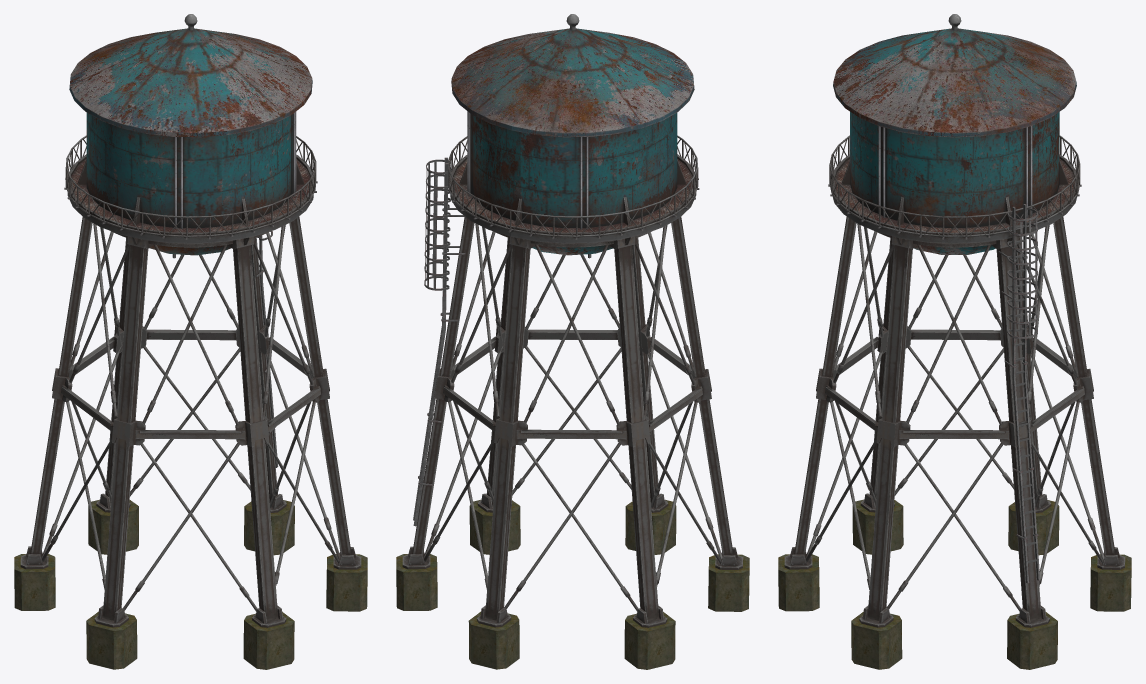
3 renders of one model, left to right at view 1: azimuth 30°, elevation 25°; view 2: azimuth 150°, elevation 25°; view 3: azimuth 270°, elevation 25°, orthographic.
Visible parts, largest first — view 1: water_tower_01_water_towet_set1_0, water_tower_01_water_towet_set2_0; view 2: water_tower_01_water_towet_set1_0, water_tower_01_water_towet_set2_0; view 3: water_tower_01_water_towet_set1_0, water_tower_01_water_towet_set2_0.
Boxes of the visible parts, <box> form: water_tower_01_water_towet_set1_0: <box>30,14,351,620</box>; water_tower_01_water_towet_set2_0: <box>14,111,367,669</box>; water_tower_01_water_towet_set1_0: <box>412,14,733,620</box>; water_tower_01_water_towet_set2_0: <box>396,111,749,669</box>; water_tower_01_water_towet_set1_0: <box>794,14,1115,620</box>; water_tower_01_water_towet_set2_0: <box>778,126,1131,669</box>.
Bounding box in the file's own units: 1011 × 2043 × 1112.
Materials: 2 (2 with a texture image).
